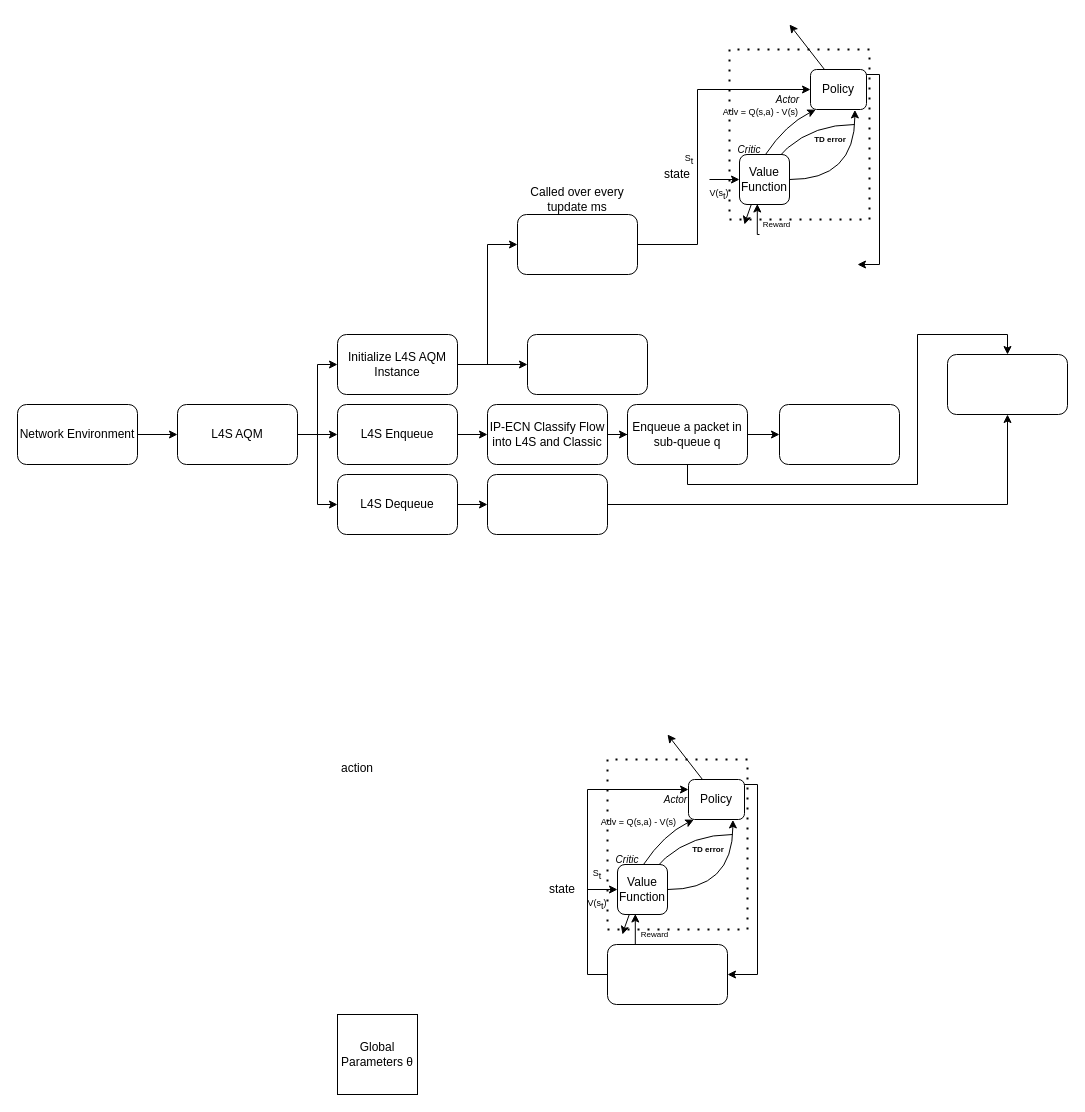
The diagram is 1085 pixels wide and 1112 high, and some of its shapes have lost their labels. The centre of each missing label's shape, as x and y in pixels:
Calculate Drop Probability for each queue L4S or Classic after coupling: the point at 577,244
Dequeue a packet from head of a sub-queue PIE: the point at 547,504
Drop packet at the head of a queue if its size is over a limit: the point at 839,434
Get L4S Configuration: the point at 587,364
Router 2: the point at 667,974
Update Stats - including base probability of each queue: the point at 1007,384
